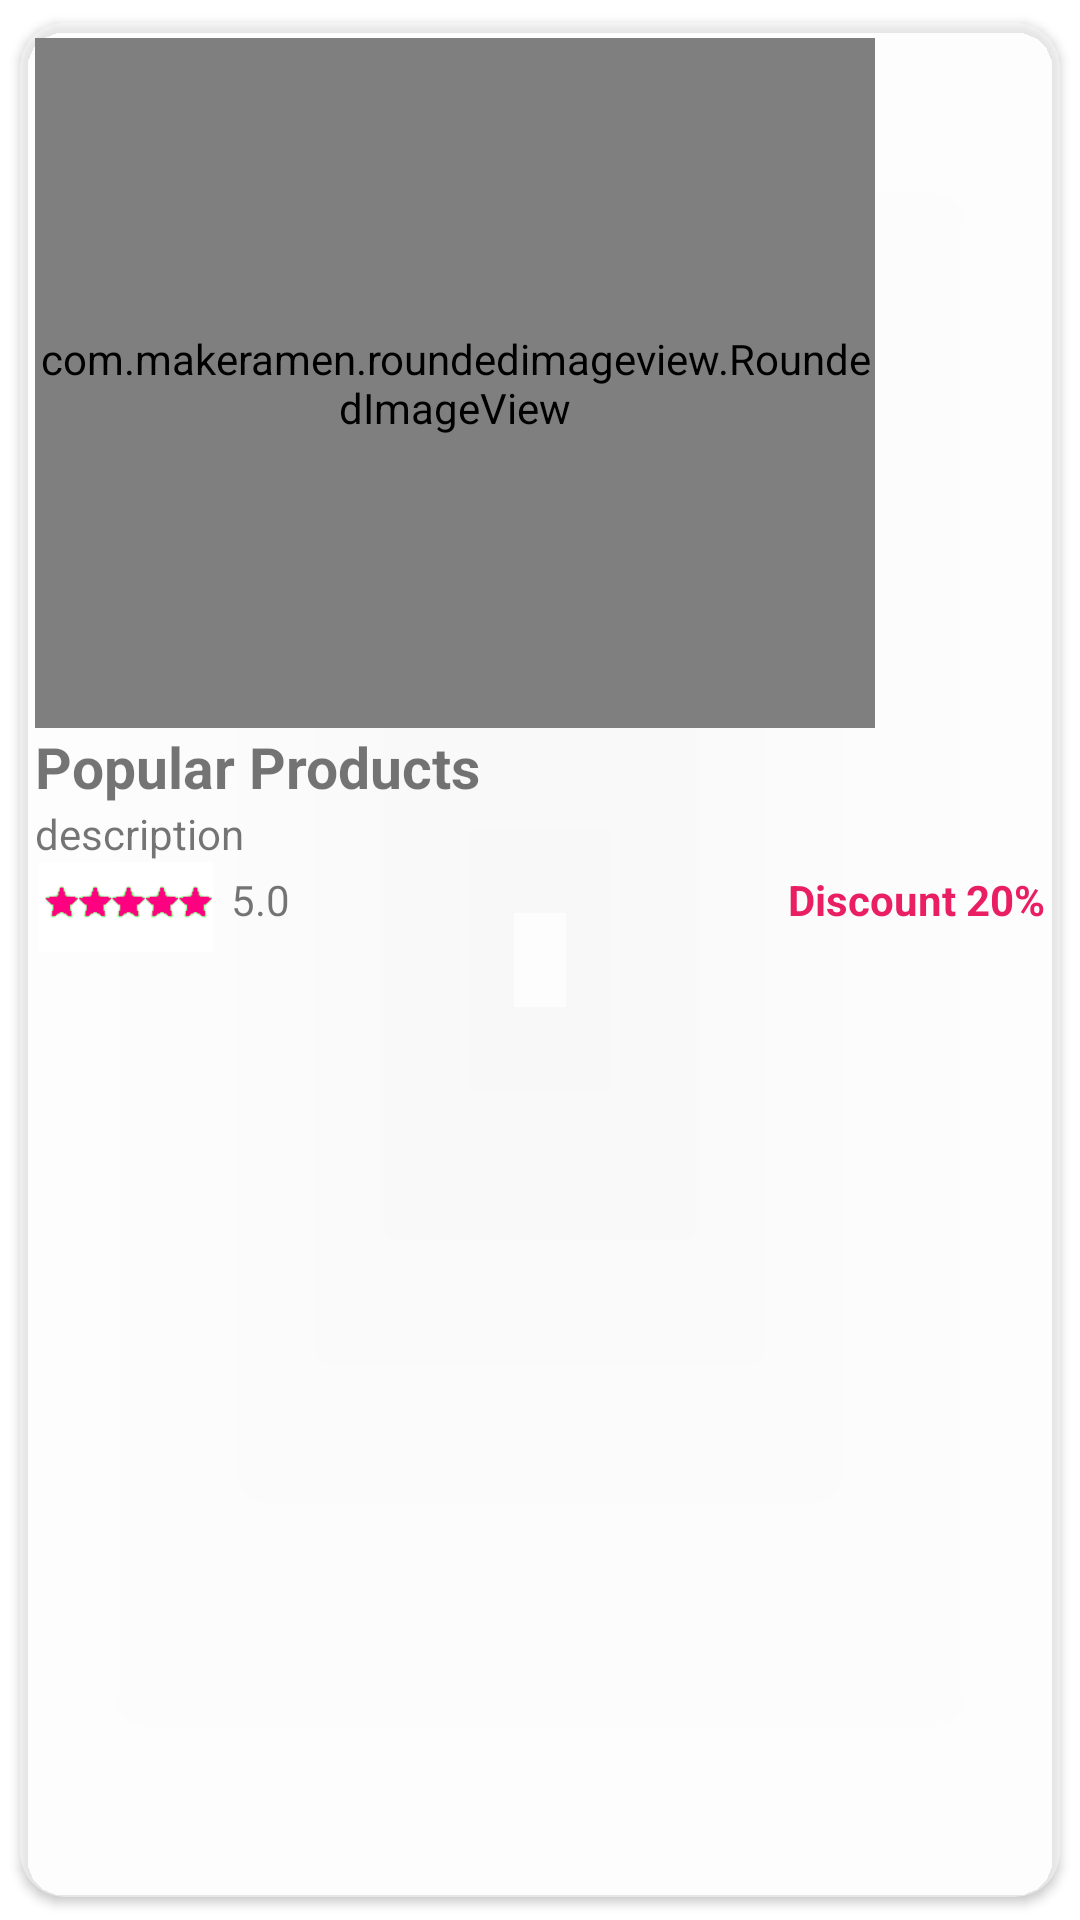

Icon bounding boxes for this 1080 x 1920 phone screenshot, format BBox(x1, y1, x2, y2):
ratingbar: BBox(45, 886, 212, 918)
